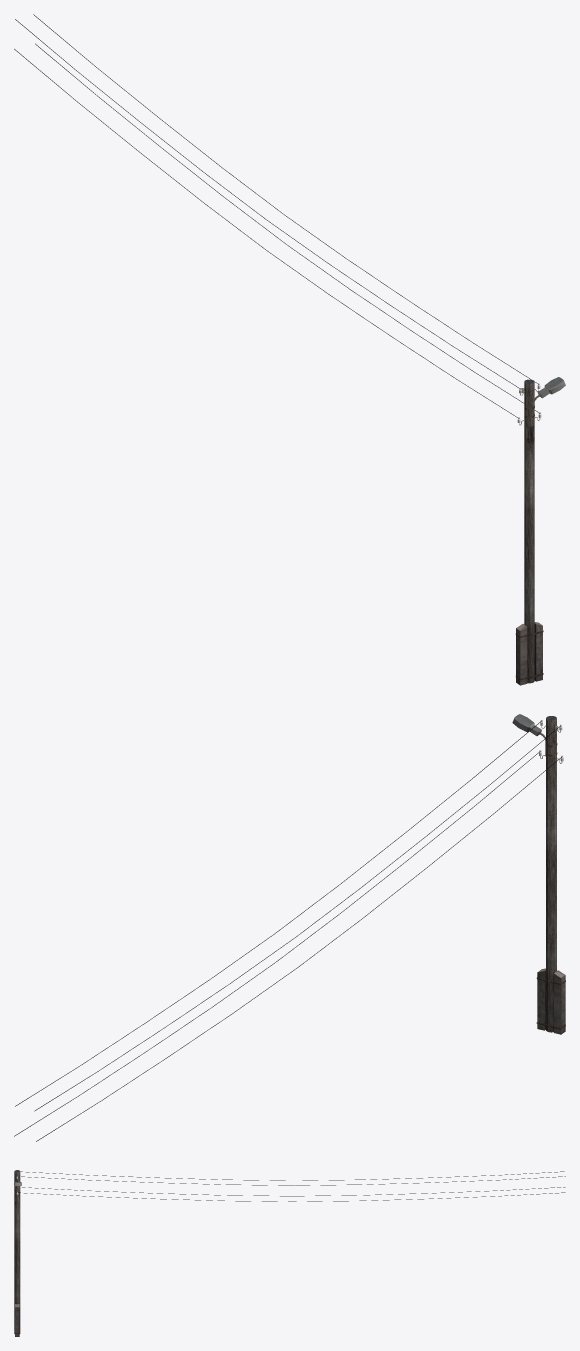
Rendered from Village3.FBX.
The picture shows the model from 3 angles, top to bottom: view 1: azimuth 30°, elevation 25°; view 2: azimuth 150°, elevation 25°; view 3: azimuth 270°, elevation 25°; orthographic projection. The views are drawn at different scales.
Parts seen in each view (by area): view 1: Village3, cabel; view 2: Village3, cabel; view 3: cabel, Village3.
Boxes of the visible parts, x1=… form: Village3: x1=515, y1=377, x2=565, y2=685; cabel: x1=14, y1=14, x2=538, y2=417; Village3: x1=512, y1=714, x2=565, y2=1034; cabel: x1=14, y1=721, x2=561, y2=1141; cabel: x1=18, y1=1171, x2=565, y2=1201; Village3: x1=14, y1=1170, x2=21, y2=1336.
Size of the model in its own units: 1.35 by 25.7 by 8.35.
